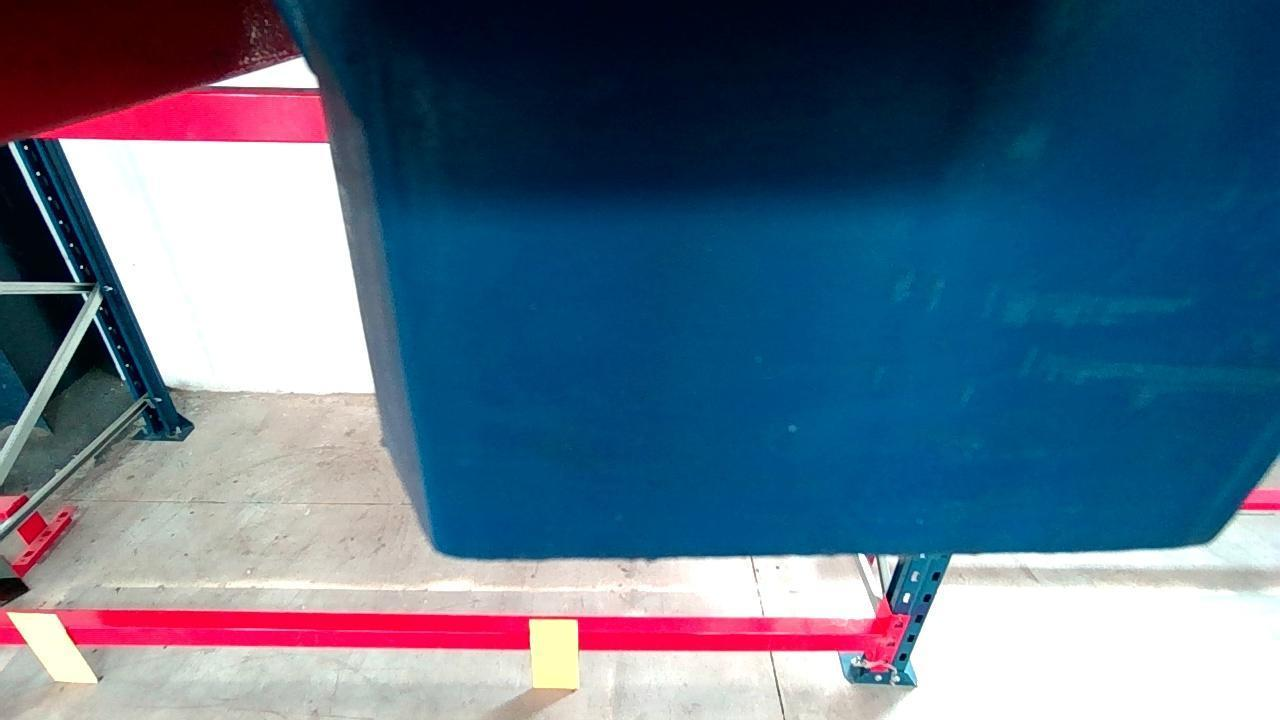h_rack: (0, 627, 883, 648), (31, 91, 330, 140)
orange_strip: (9, 614, 94, 681), (526, 620, 574, 689)
